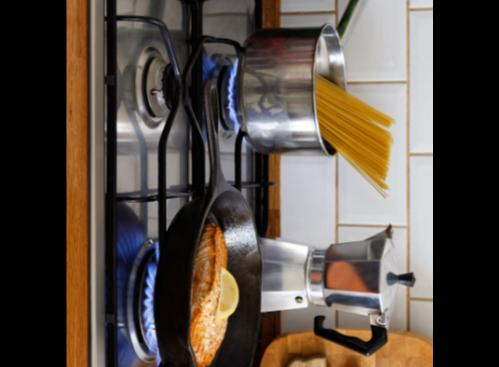controlled_fire: (133, 223, 172, 367), (207, 29, 252, 148)
